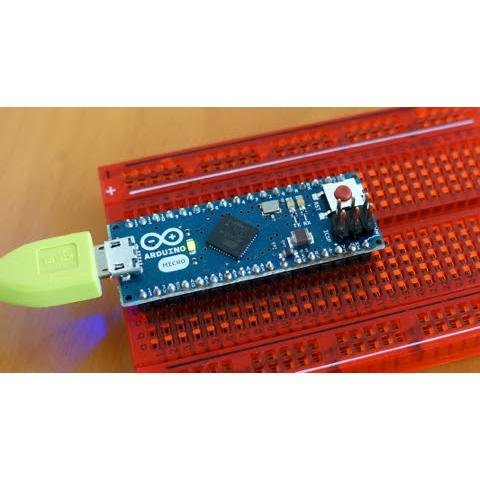Arduino-Micro: (102, 170, 390, 314)
